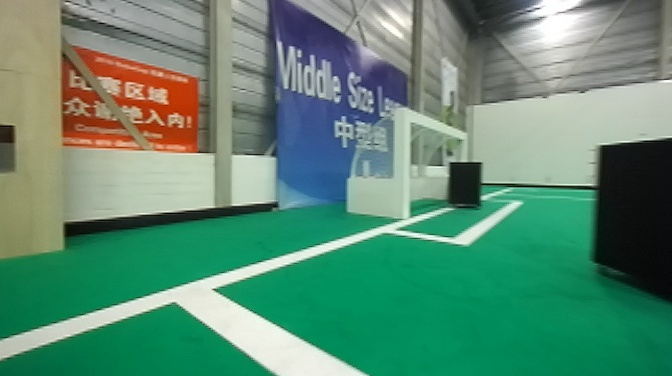goalpost: (392, 109, 411, 221), (451, 130, 471, 161)
